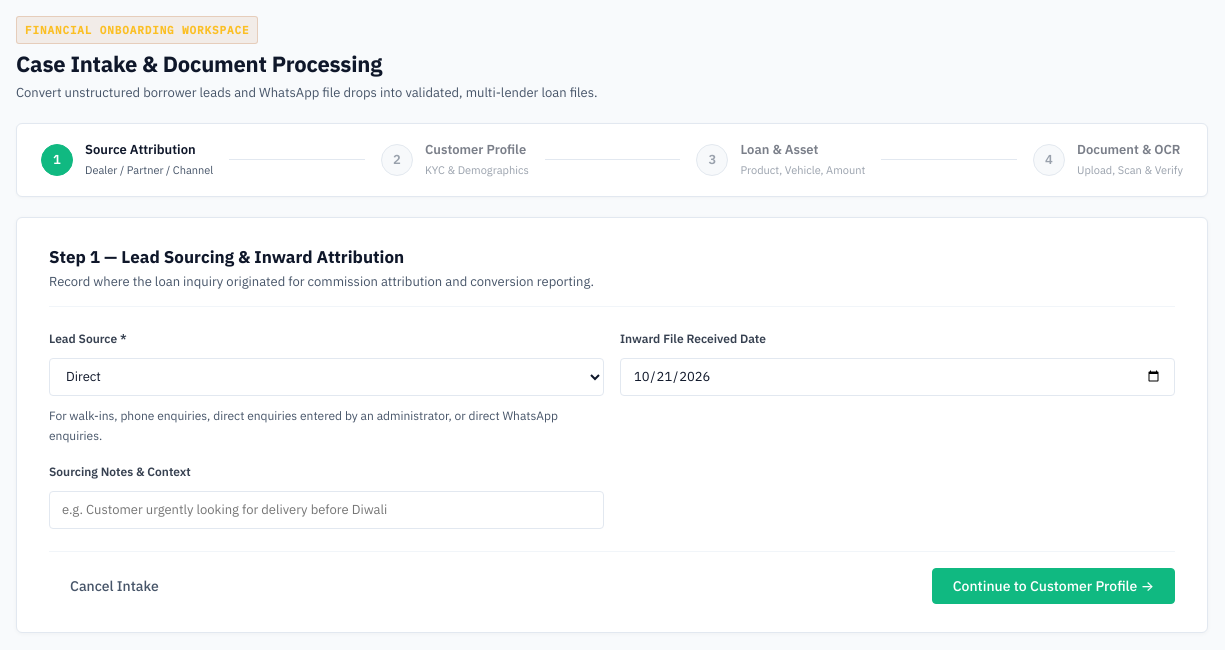
Test: Sidebar Simplification & Quick Lead Intake Updates › 2. Quick Lead Intake Source Dropdown (CaseIntakeWorkspace) › shows registered referral partners when Referral is selected
The width and height of the screenshot is (1225, 650).
Select "Referral" in the dropdown labelled "Lead Source *" at (326, 377), box [49,358,604,396]
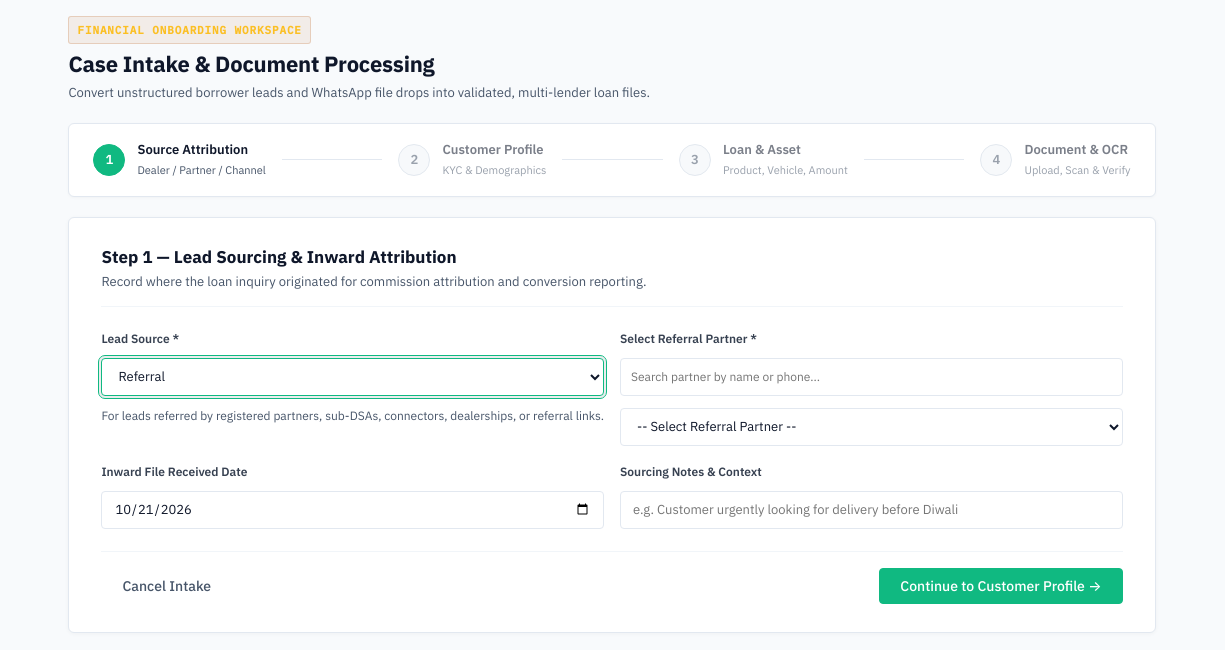
Check: the dropdown labelled "Select Referral Partner *" is shown, box [620,408,1123,446]
